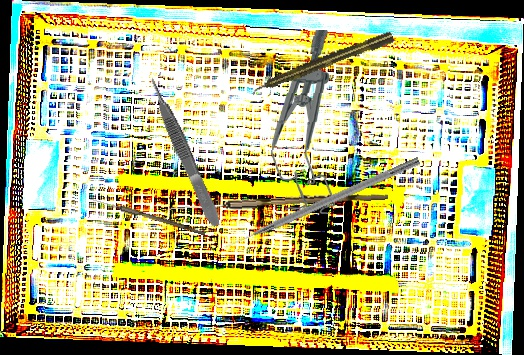Handpiece: (249, 29, 395, 98)
Hook Surgical: (221, 155, 422, 252)
Speculum: (269, 28, 341, 215)
Surgical Spoon: (167, 189, 389, 215), (88, 196, 207, 236)
Tissue Forceps: (145, 74, 224, 230)
